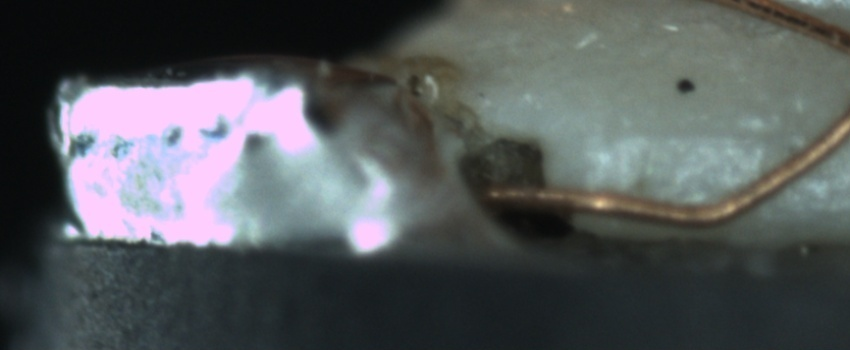DL: (604, 112, 849, 162)
